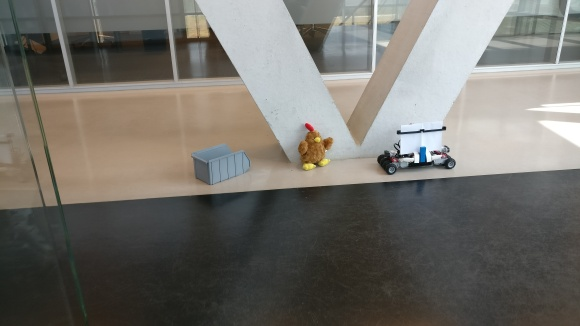car: (376, 118, 455, 175)
chicken: (297, 122, 334, 171)
tray: (189, 141, 252, 185)
